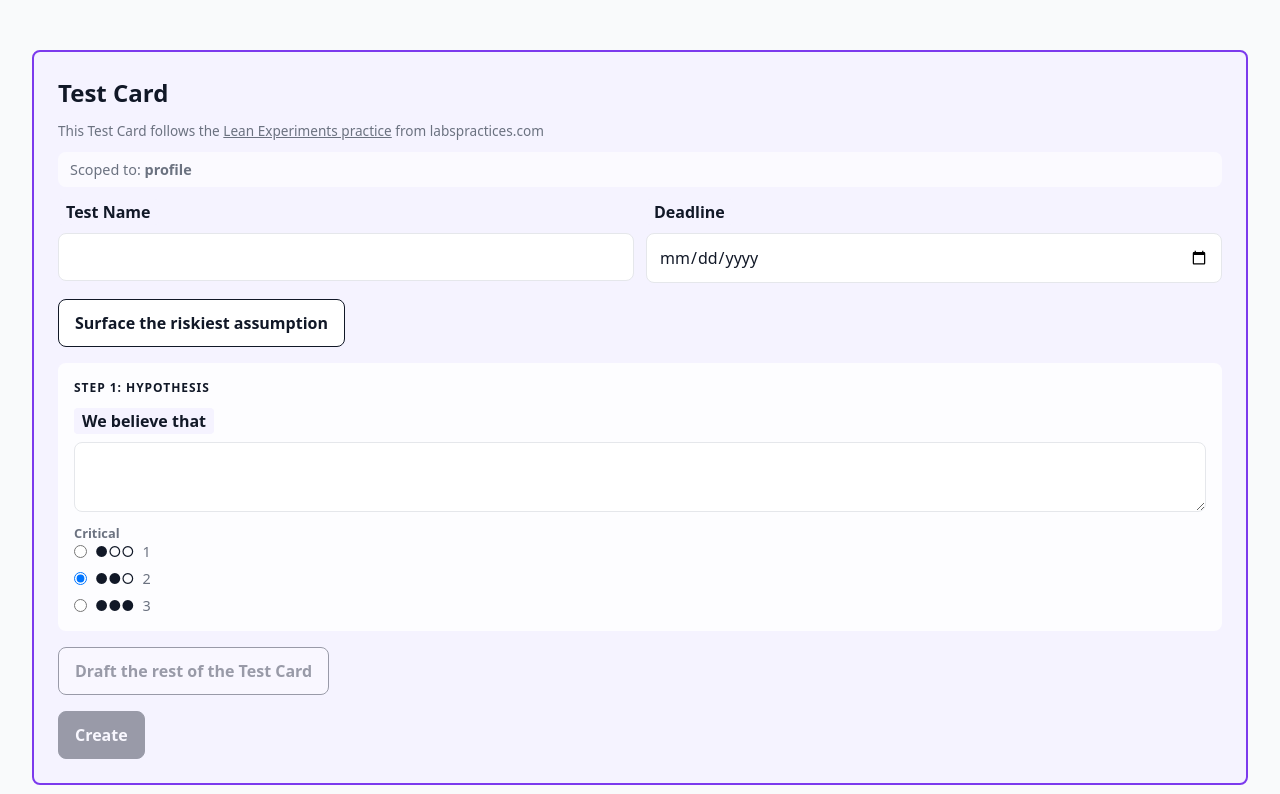
Test: CreateExperimentForm (Test Card) › shows a validation error when a required Test Card field has been cleared before saving
The image size is (1280, 794).
Type "Recipe save fake-door" into the field labelled "Test Name" at coordinates (346, 257), box left=58, top=233, right=634, bottom=281
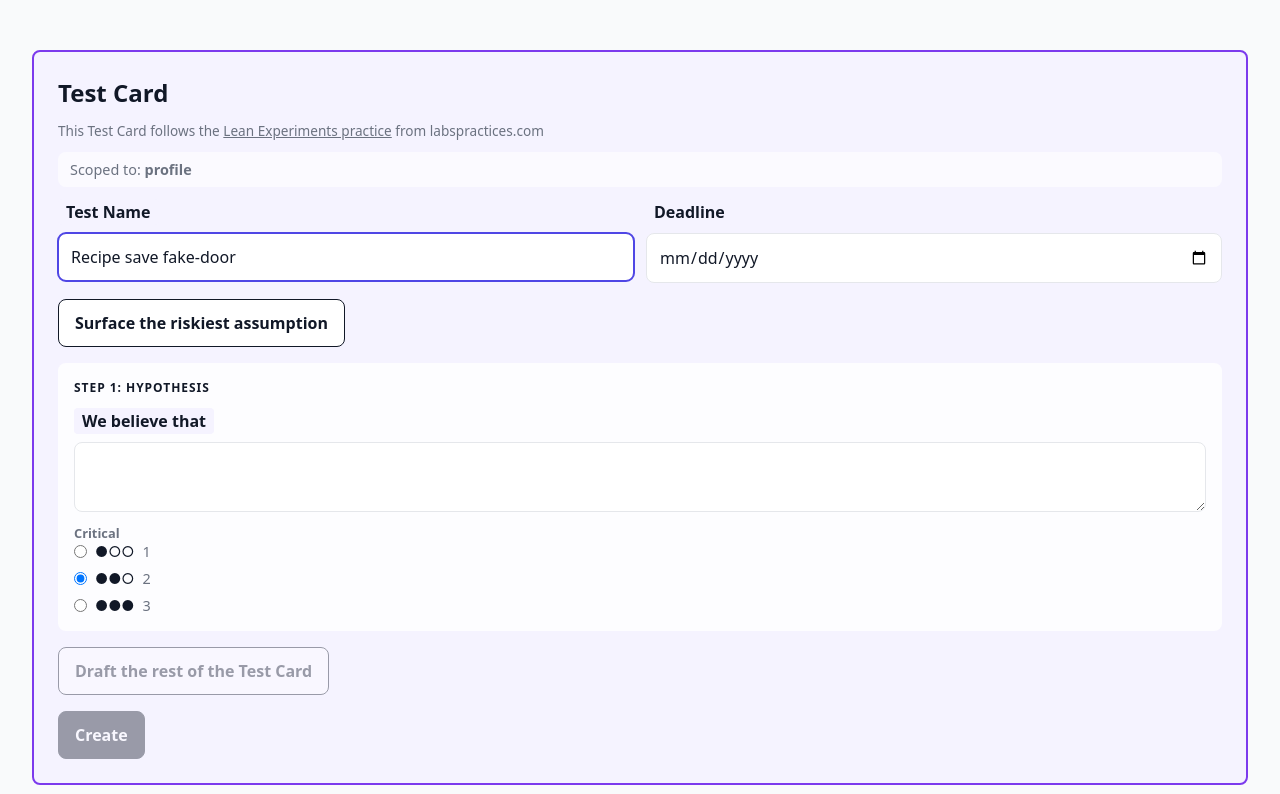
Type "2026-08-01" into the date field labelled "Deadline" at coordinates (934, 258), box left=646, top=233, right=1222, bottom=283
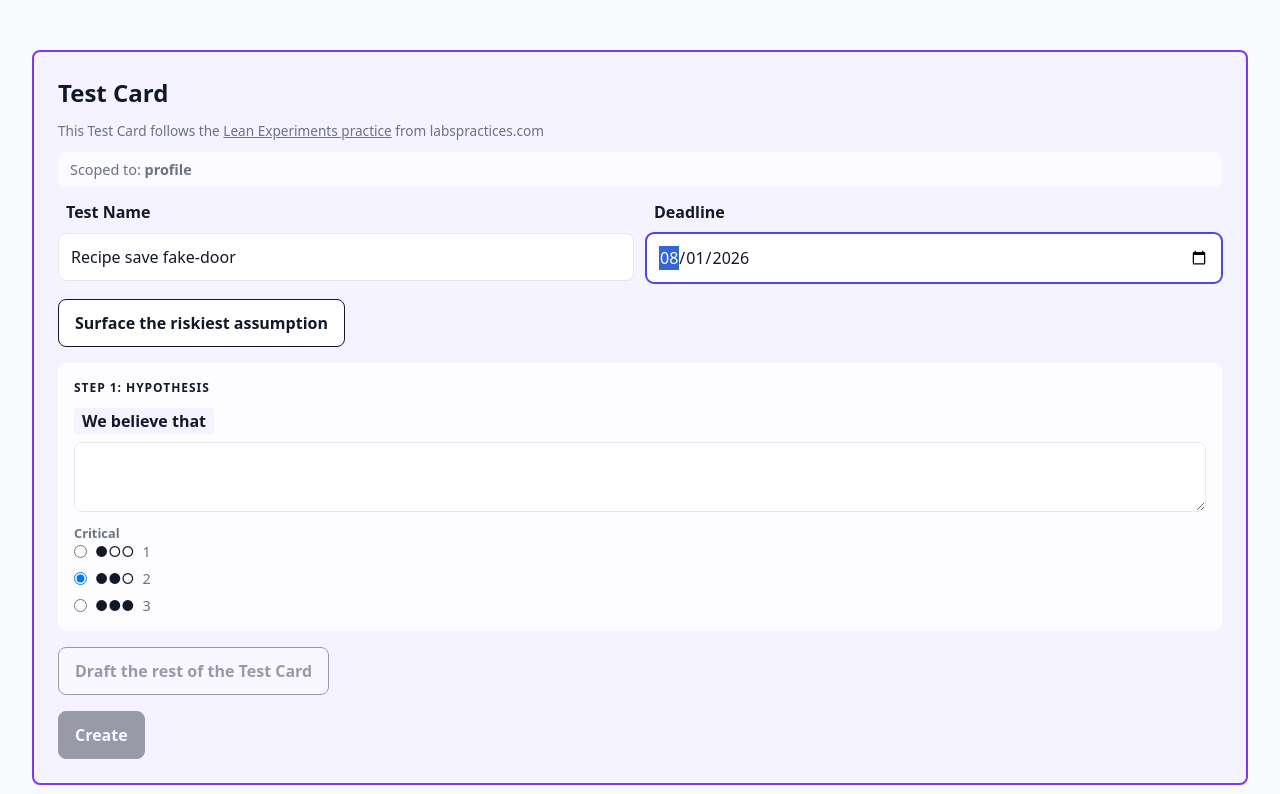
Type "H" into the text box labelled "We believe that" at coordinates (640, 477), box left=74, top=442, right=1206, bottom=512
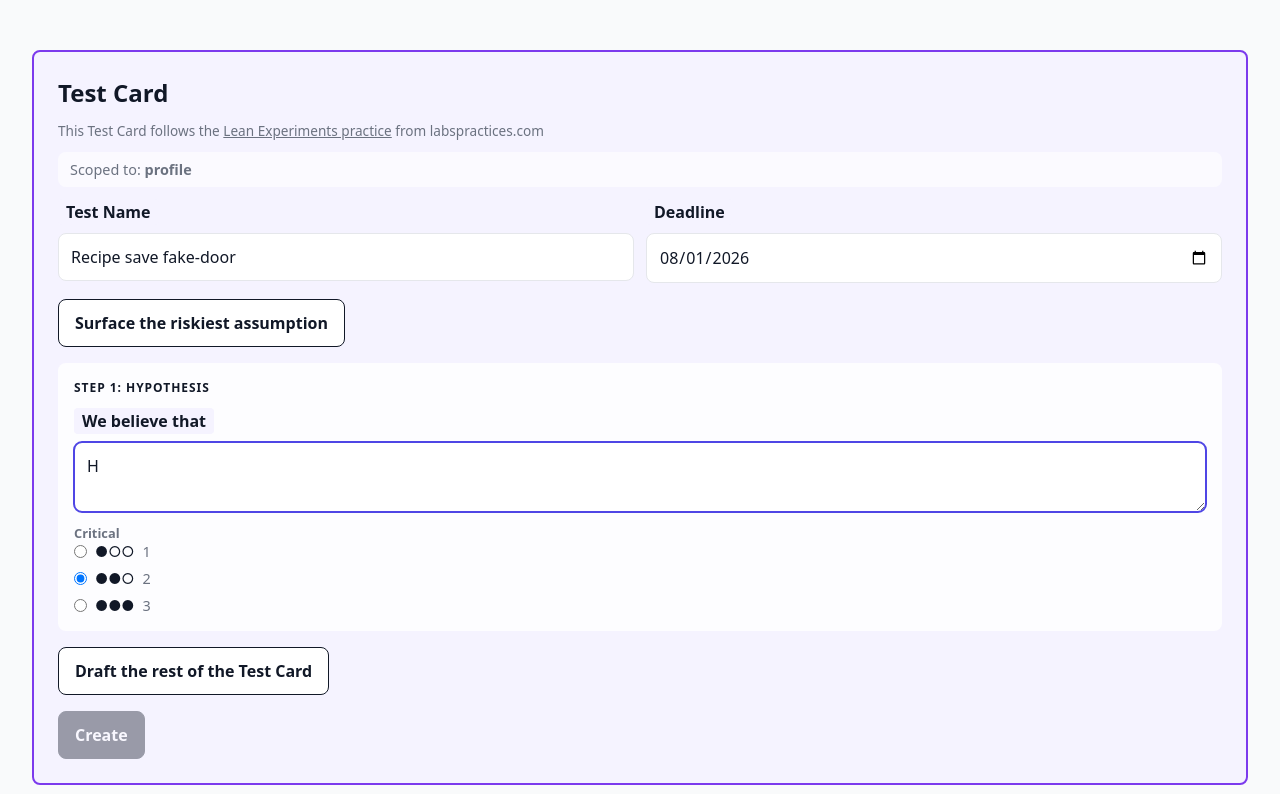
Click the button "Draft the rest of the Test Card" at coordinates (194, 671), box left=58, top=647, right=329, bottom=695
(page scrolled)
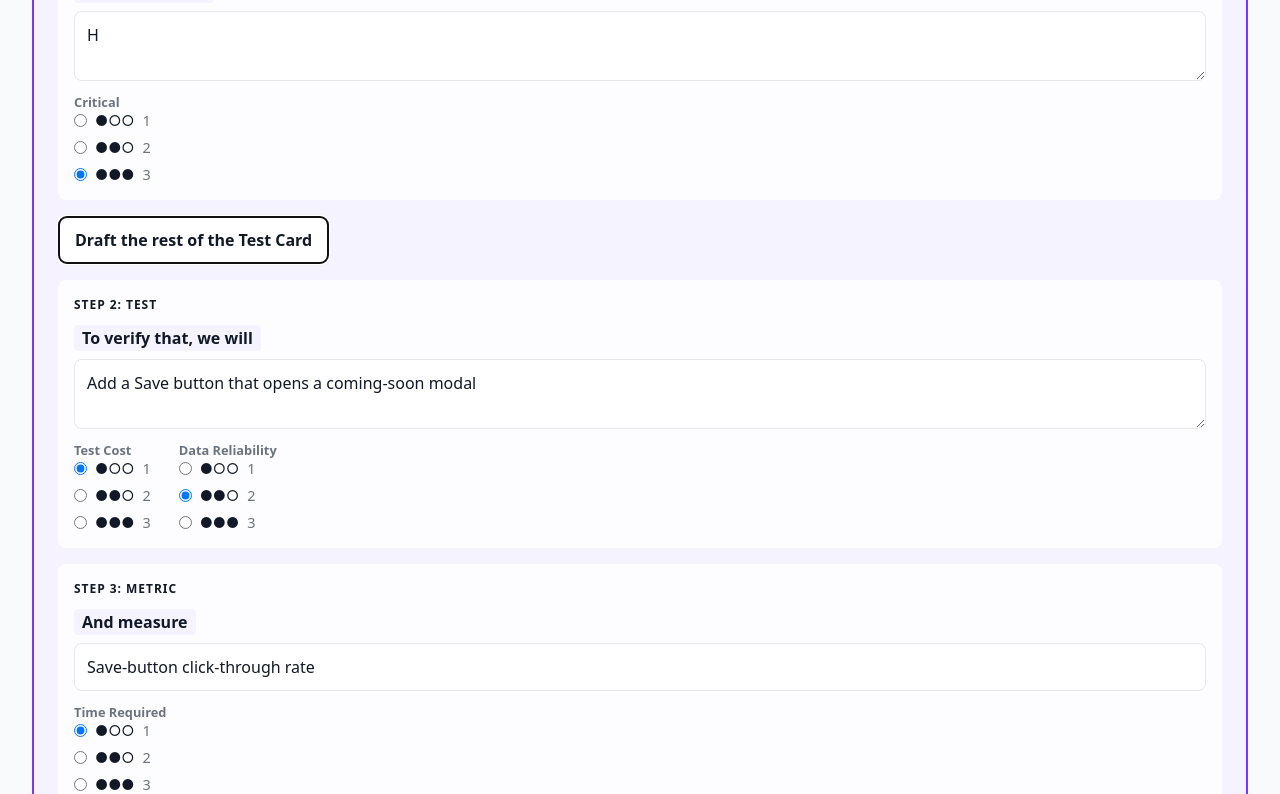
Clear the text box labelled "To verify that, we will" at coordinates (640, 394), box left=74, top=359, right=1206, bottom=429
(page scrolled)
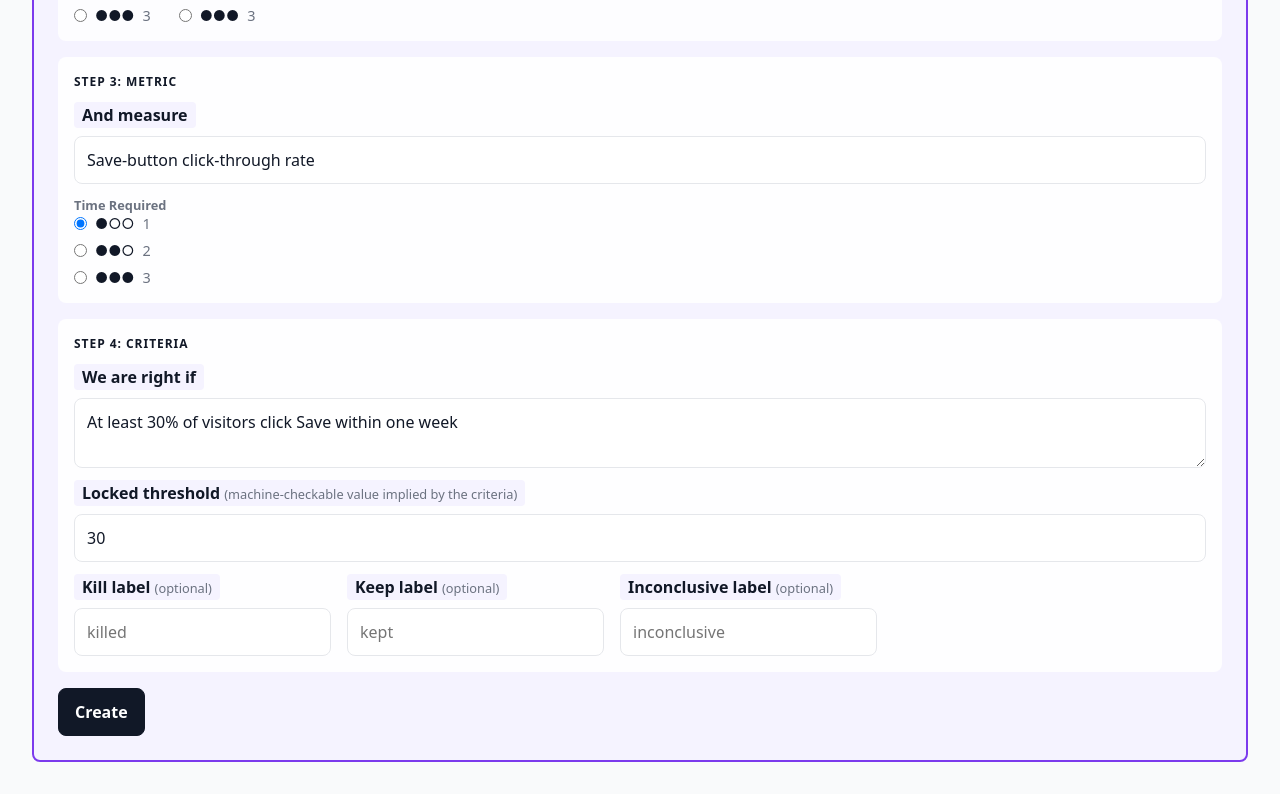
Click the button "Create" at coordinates (101, 712), box left=58, top=688, right=145, bottom=736
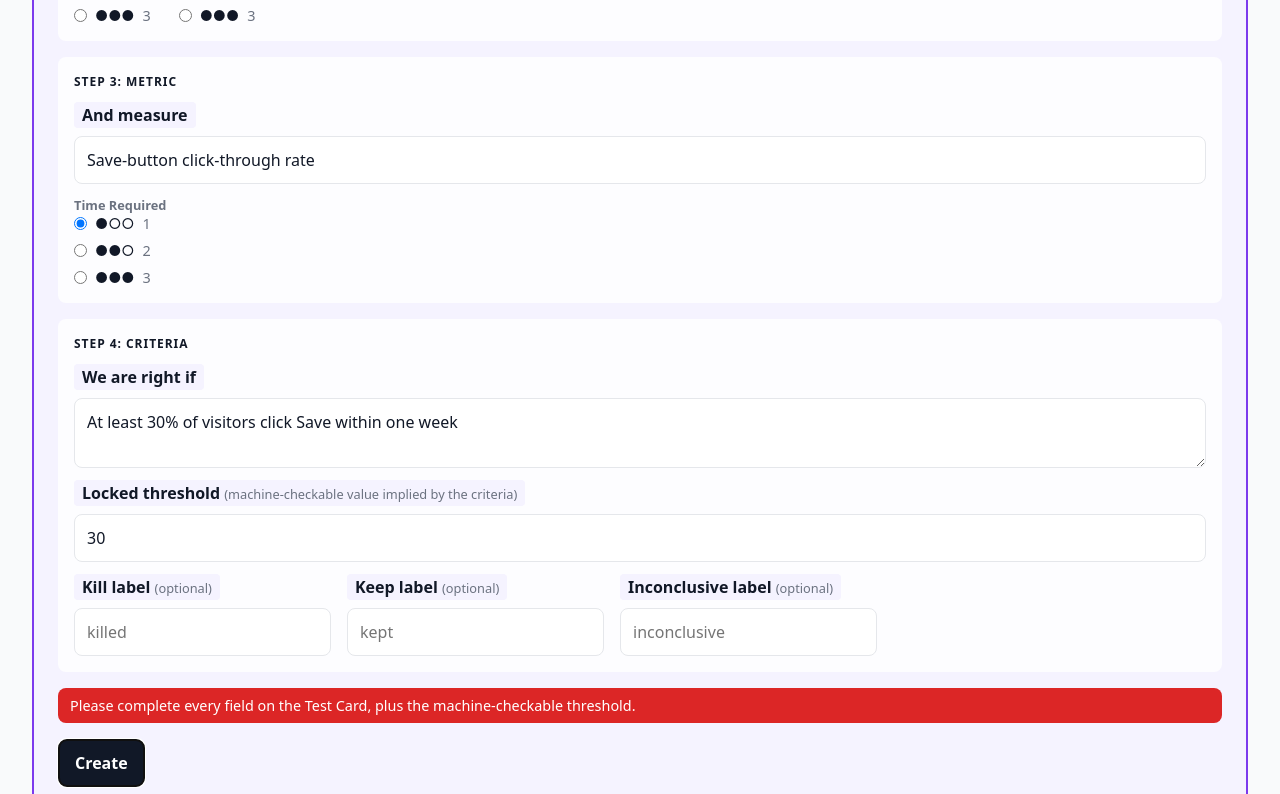
Expected: the message shows "complete every field", left=70, top=696, right=636, bottom=715
